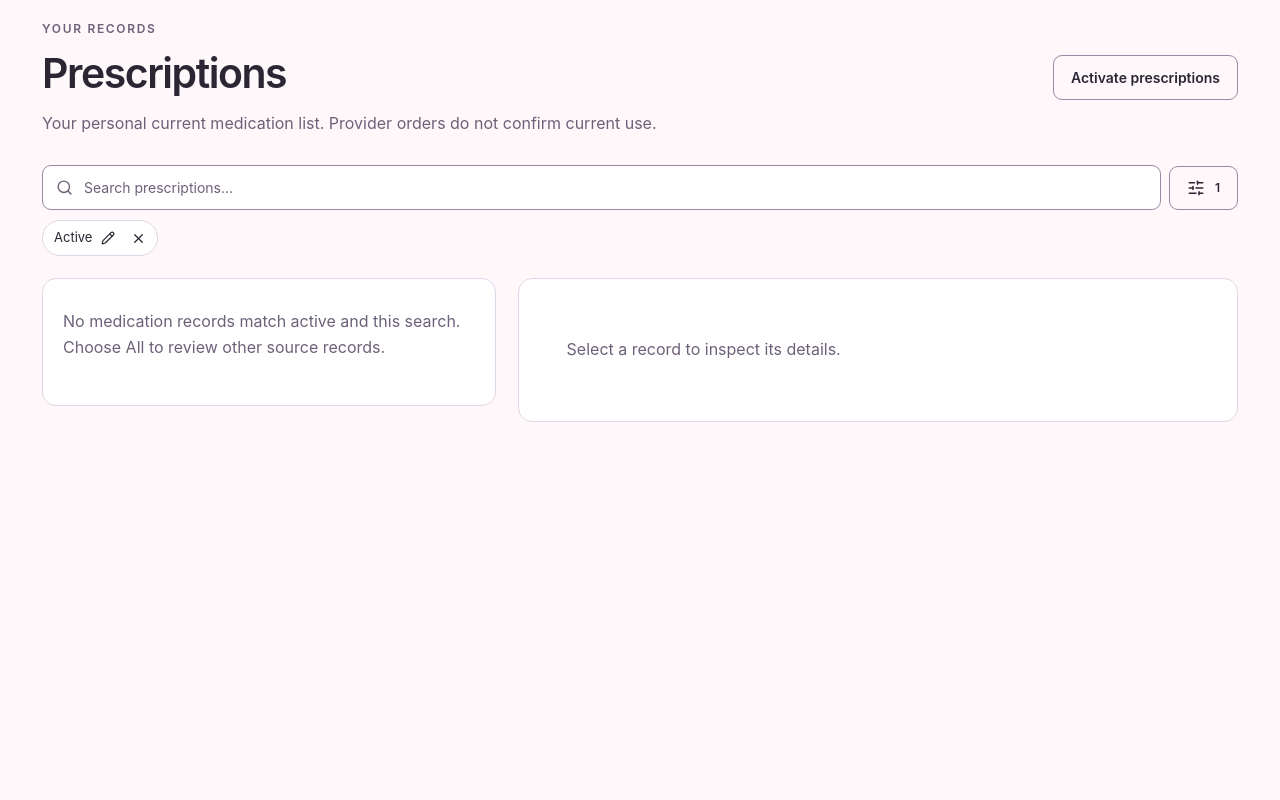
Test: activation is repeatable from Prescriptions and Done closes it without changing prescriptions
This screenshot has width=1280, height=800.
What coordinates should you click on to do the following:
click the button "Activate prescriptions"
I would click on:
 (1146, 78)
Its box is x1=1053 y1=55 x2=1238 y2=100.
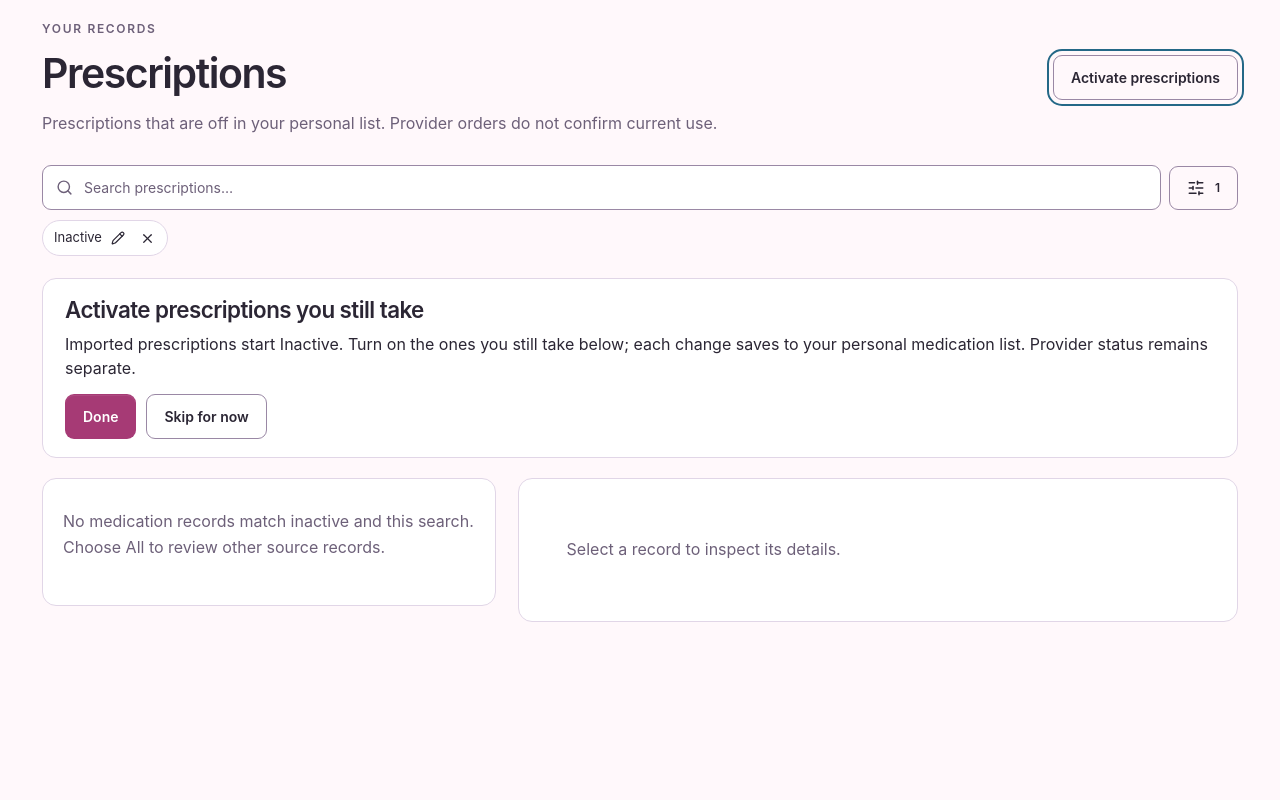
Check: the heading "Activate prescriptions you still take" is shown, box x1=65 y1=296 x2=424 y2=323
What coordinates should you click on to do the following:
click the button "Done"
I would click on:
 (101, 416)
Its box is x1=65 y1=394 x2=136 y2=439.
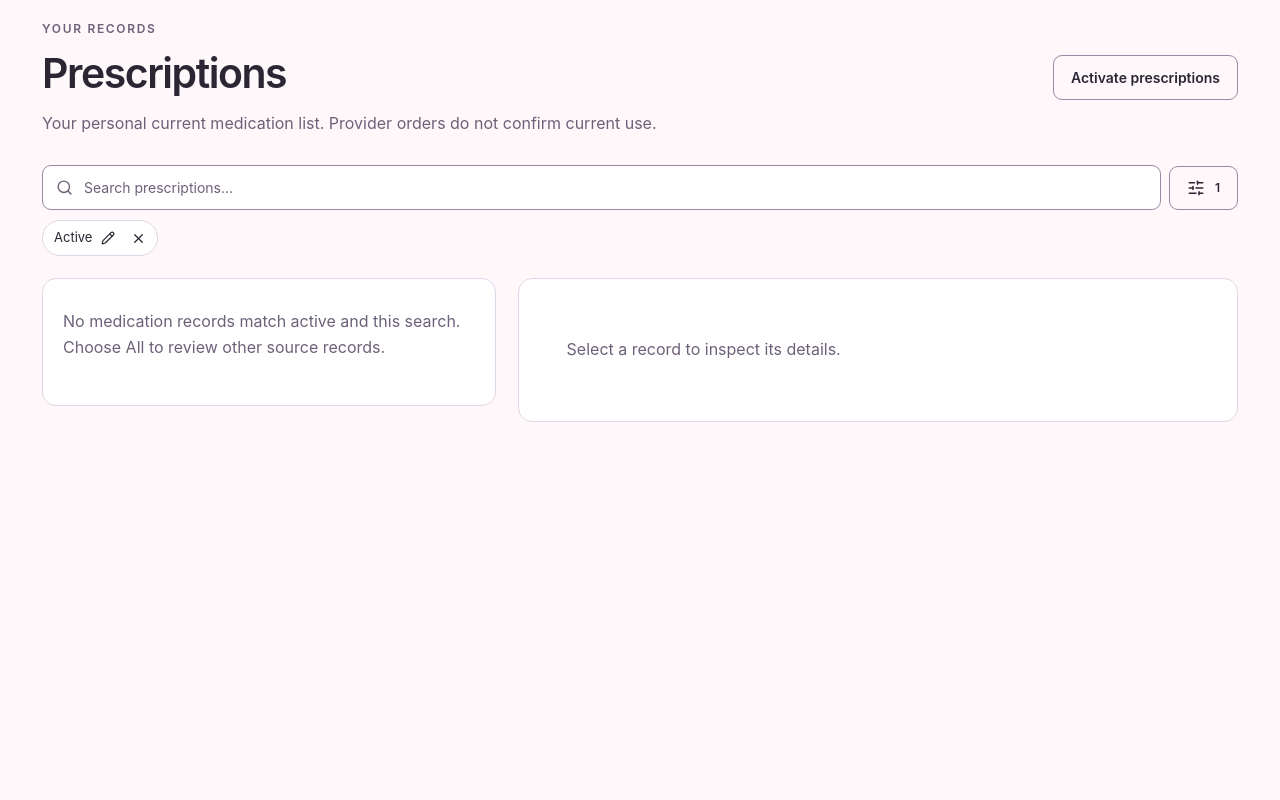
Check: the heading "Activate prescriptions you still take" is gone
